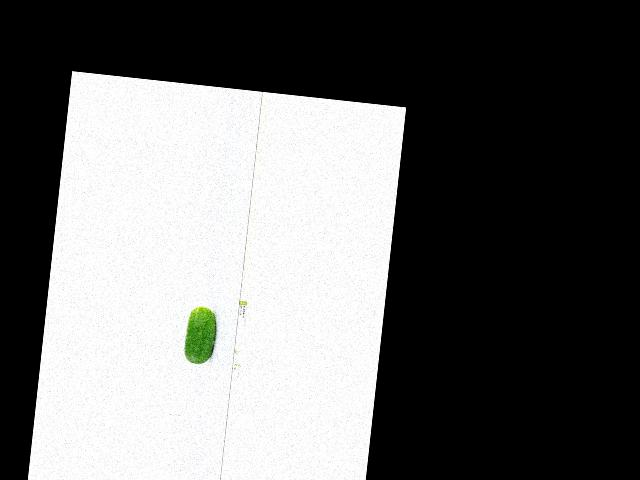cucumber: (183, 305, 218, 366)
